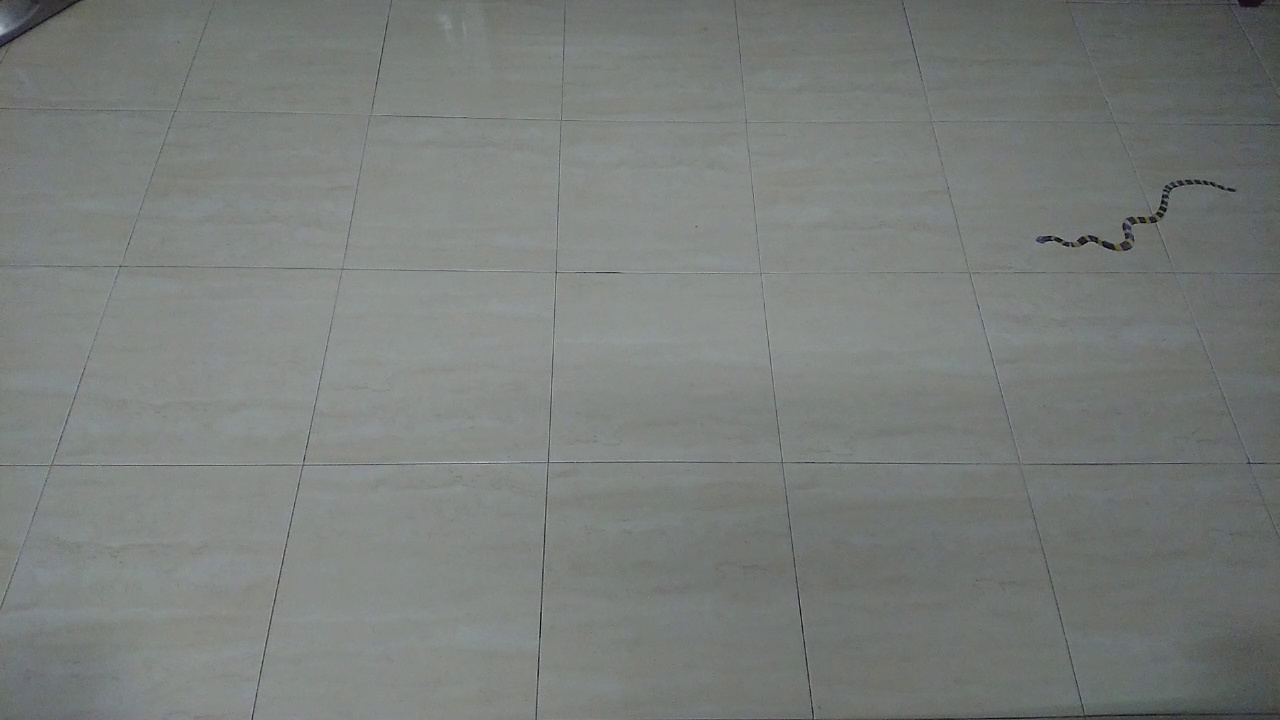snake: (1022, 168, 1247, 270)
